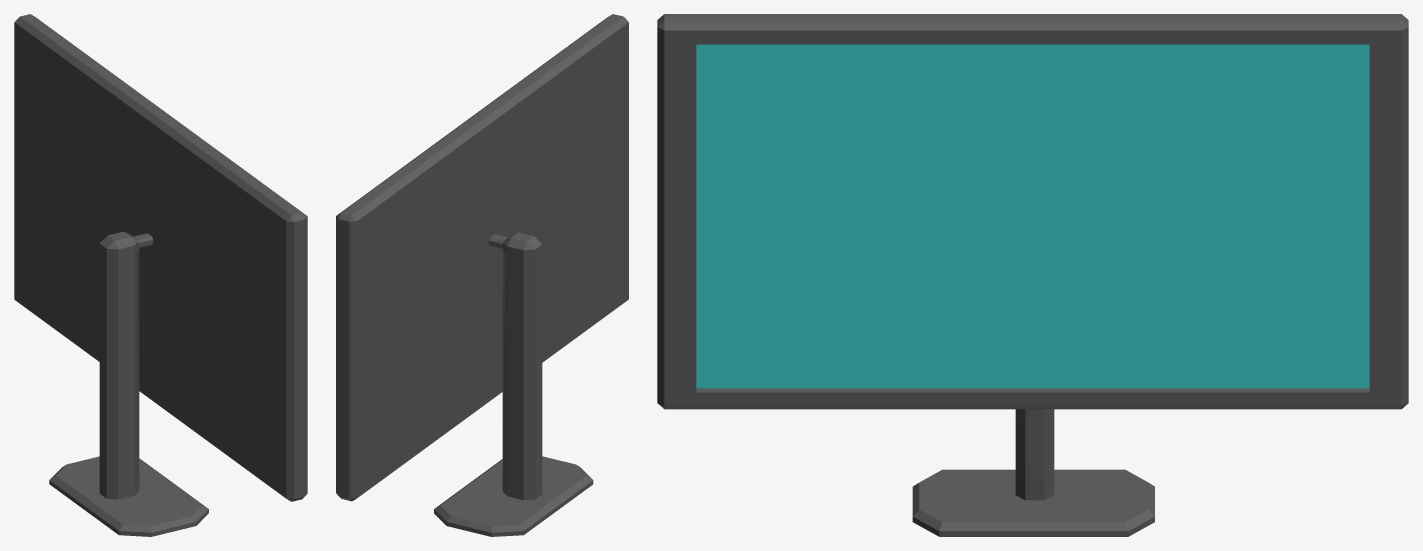
File: Obj_LabMonitor.fbx
The picture shows the model from 3 angles, left to right: view 1: azimuth 30°, elevation 25°; view 2: azimuth 150°, elevation 25°; view 3: azimuth 270°, elevation 25°; orthographic projection. The views are drawn at different scales.
Visible parts, largest first — view 1: Obj_LabMonitor; view 2: Obj_LabMonitor; view 3: Obj_LabMonitor.
Boxes of the visible parts, x1=… form: Obj_LabMonitor: x1=14, y1=14, x2=307, y2=536; Obj_LabMonitor: x1=336, y1=14, x2=628, y2=536; Obj_LabMonitor: x1=657, y1=14, x2=1408, y2=536.
Bounding box in the file's own units: 0.15 × 0.6 × 0.8.
